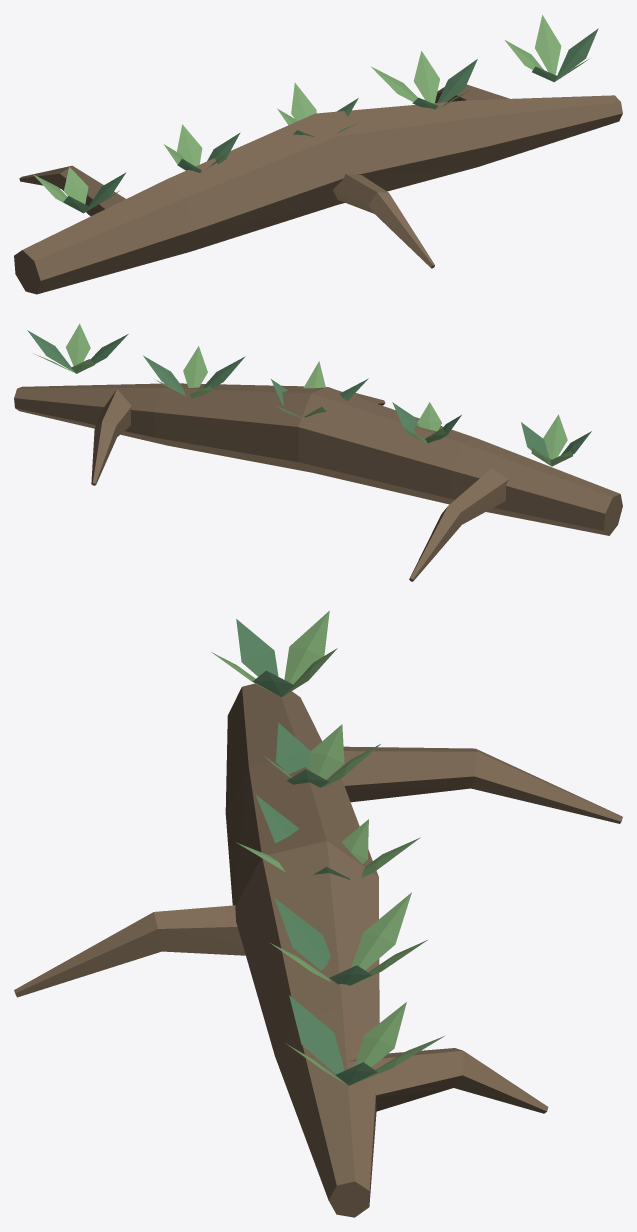
3 renders of one model, top to bottom at view 1: azimuth 30°, elevation 25°; view 2: azimuth 150°, elevation 25°; view 3: azimuth 270°, elevation 25°, orthographic. The views are drawn at different scales.
Parts seen in each view (by area): view 1: Wildwuchs_bark_nocol, Wildwuchs_green_nocol, Wildwuchs_deep_nocol; view 2: Wildwuchs_bark_nocol, Wildwuchs_green_nocol, Wildwuchs_deep_nocol; view 3: Wildwuchs_bark_nocol, Wildwuchs_green_nocol, Wildwuchs_deep_nocol.
Boxes of the visible parts, x1=… form: Wildwuchs_bark_nocol: x1=14, y1=84, x2=622, y2=294; Wildwuchs_green_nocol: x1=33, y1=15, x2=588, y2=212; Wildwuchs_deep_nocol: x1=63, y1=28, x2=598, y2=213; Wildwuchs_bark_nocol: x1=14, y1=383, x2=622, y2=581; Wildwuchs_green_nocol: x1=33, y1=323, x2=572, y2=466; Wildwuchs_deep_nocol: x1=27, y1=330, x2=591, y2=457; Wildwuchs_bark_nocol: x1=14, y1=683, x2=622, y2=1217; Wildwuchs_green_nocol: x1=211, y1=611, x2=445, y2=1084; Wildwuchs_deep_nocol: x1=236, y1=619, x2=377, y2=1085.
Bounding box in the file's own units: 4.73 × 0.738 × 2.54.
